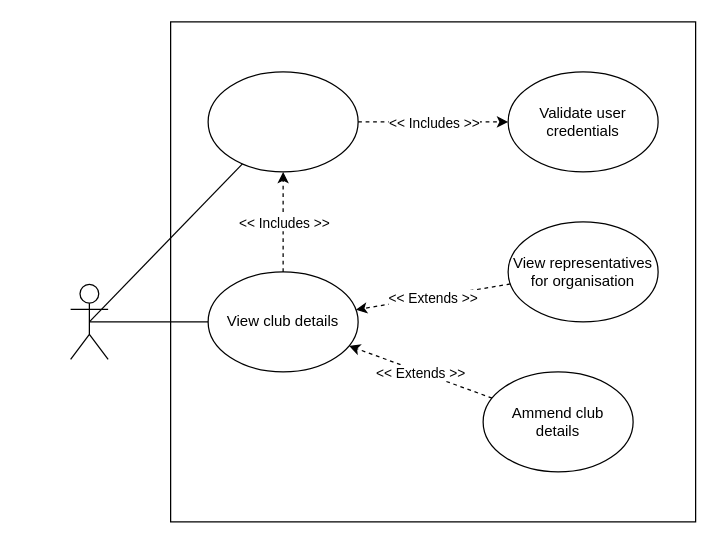
The diagram is 718 pixels wide and 544 high, and some of its shapes have lost their labels. The centre of each missing label's shape, as x and y in pixels:
"Club Representative" belongs at point (88, 321).
"Sign in to system" belongs at point (282, 121).
